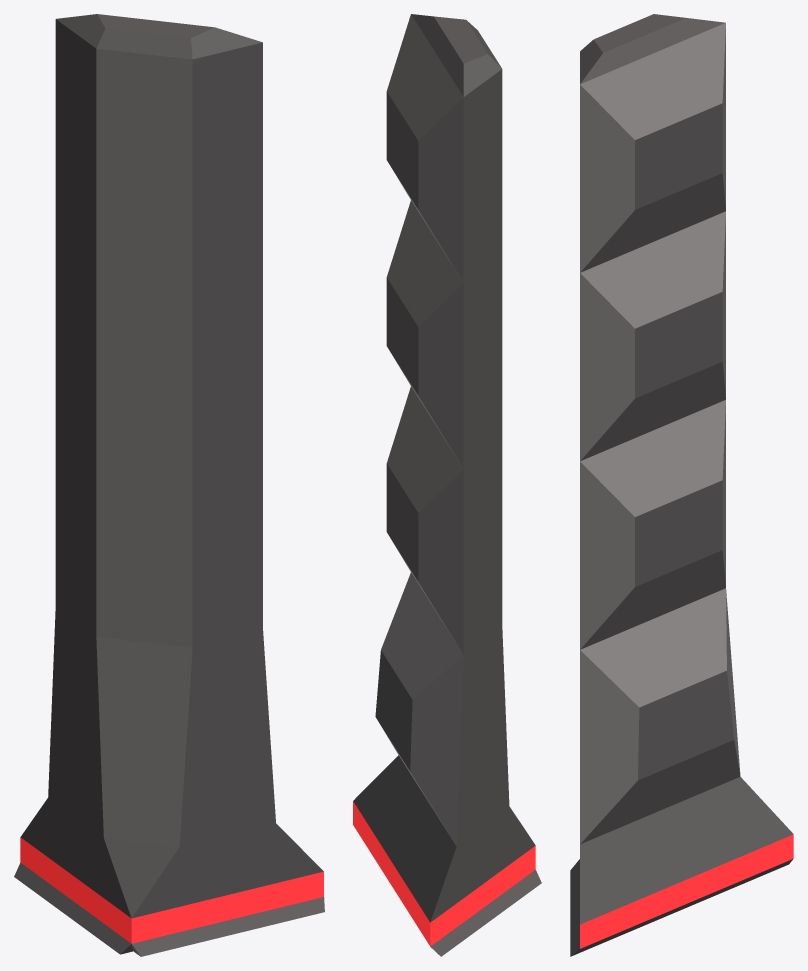
The model's file is scifi_scifi-barrier-large-corner.fbx.
3 renders of one model, left to right at view 1: azimuth 30°, elevation 25°; view 2: azimuth 150°, elevation 25°; view 3: azimuth 270°, elevation 25°, orthographic. The views are drawn at different scales.
Parts seen in each view (by area): view 1: scifi_scifi_barrier_large_corner; view 2: scifi_scifi_barrier_large_corner; view 3: scifi_scifi_barrier_large_corner.
Boxes of the visible parts, left/top/right/bottom form: scifi_scifi_barrier_large_corner: left=14, top=14, right=324, bottom=956; scifi_scifi_barrier_large_corner: left=353, top=14, right=541, bottom=956; scifi_scifi_barrier_large_corner: left=570, top=14, right=793, bottom=956.
Bounding box in the file's own units: 47.11 × 200 × 47.11.
